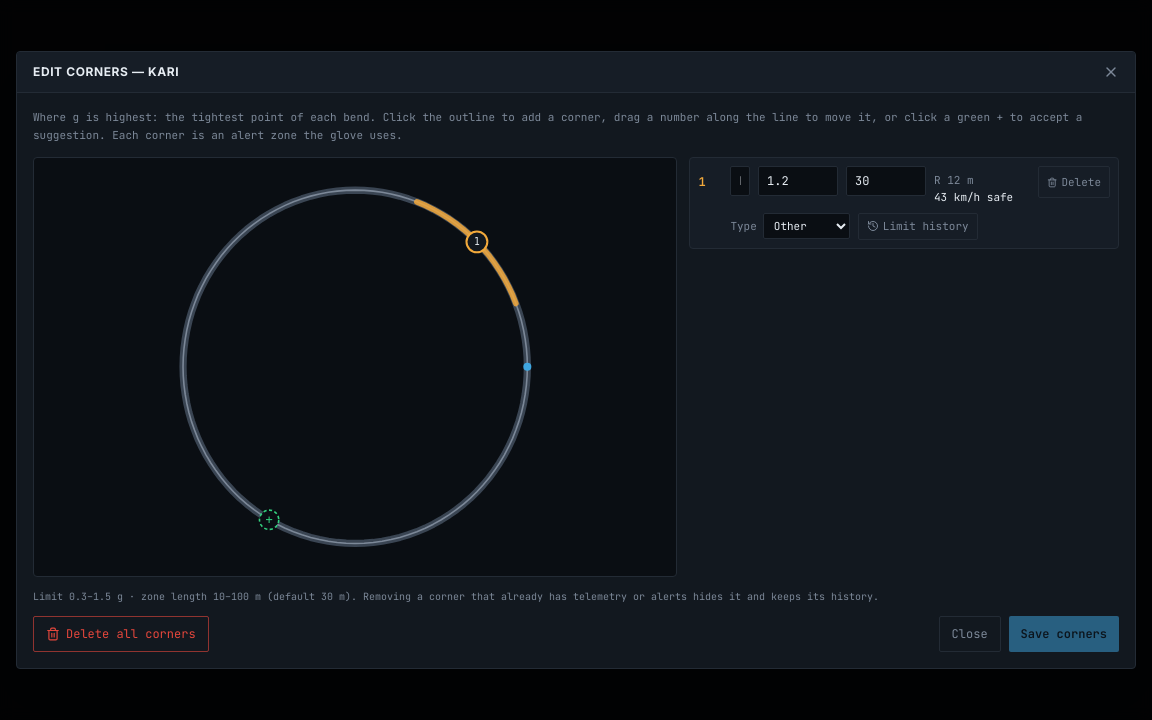
Test: CornerEditorDialog (editable map) › says so when a corner has no history, and shows an error when loading fails
Expected: the element with test id "corner-marker-table" is shown, [689,157,1119,249]
Step 1. Click the button with test id "marker-history-1" → (918, 226), box [858,213,978,240]
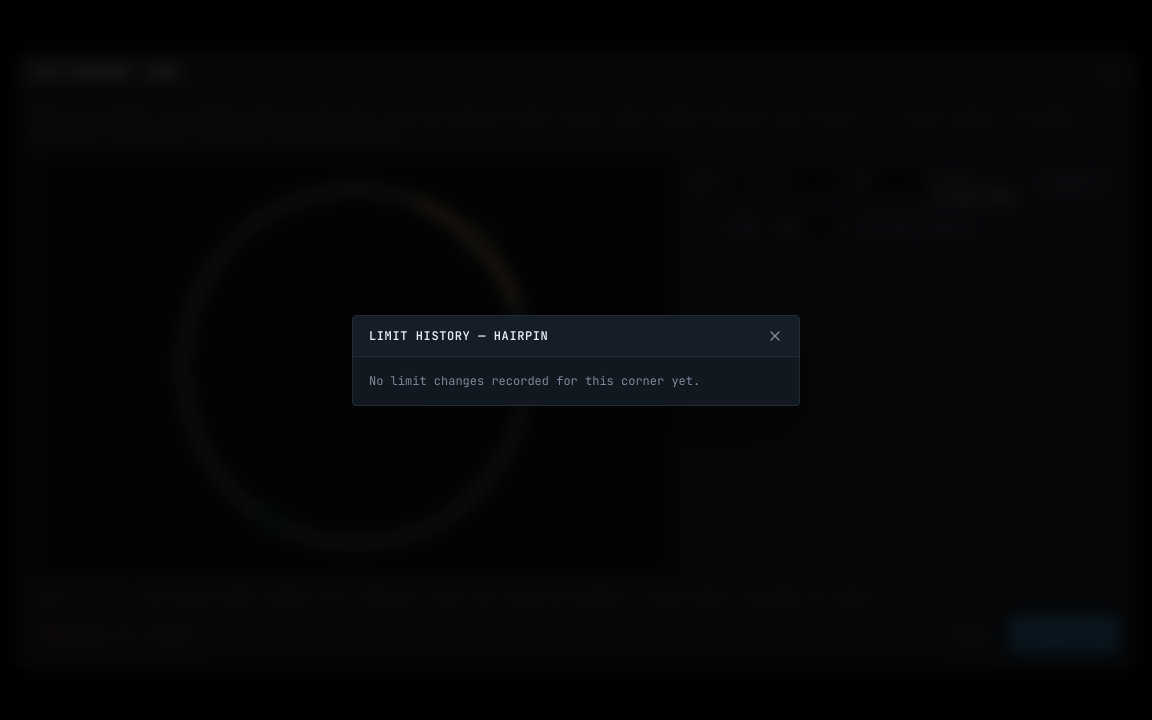
Expected: the text "No limit changes recorded for this corner yet." is shown, [369,372,700,388]
Step 2. Click the button named "Close history" → (775, 336), box [767,328,783,344]
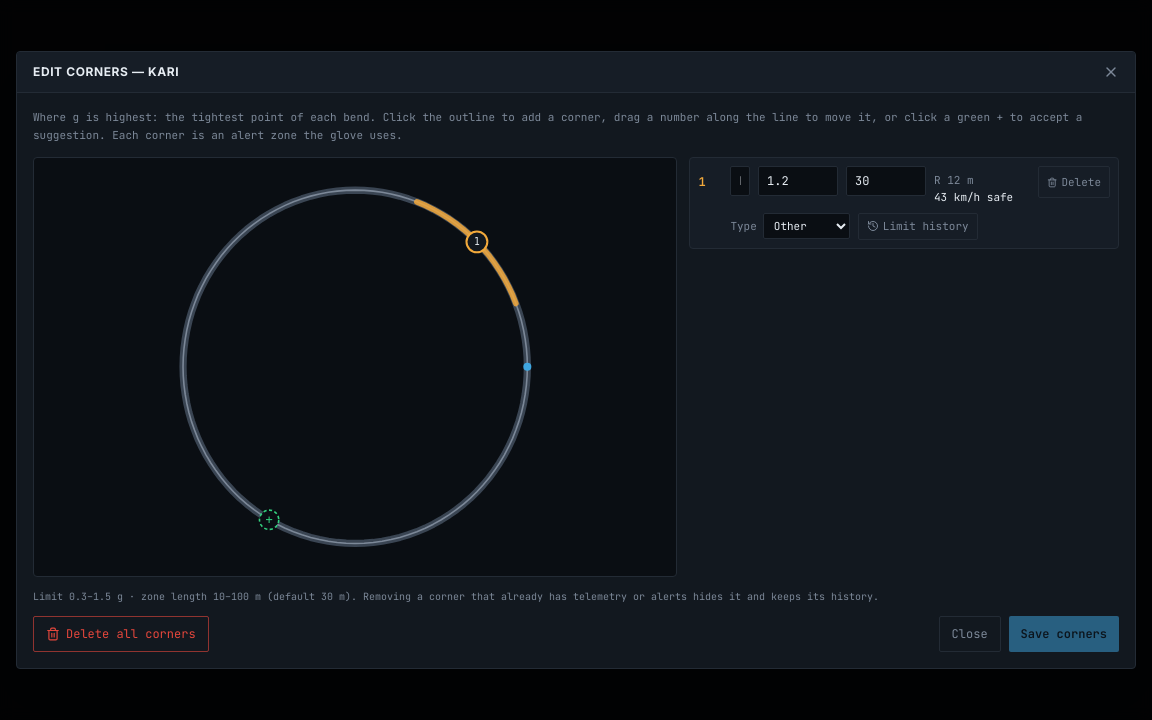
Step 3. Click the button with test id "marker-history-1" → (918, 226), box [858,213,978,240]
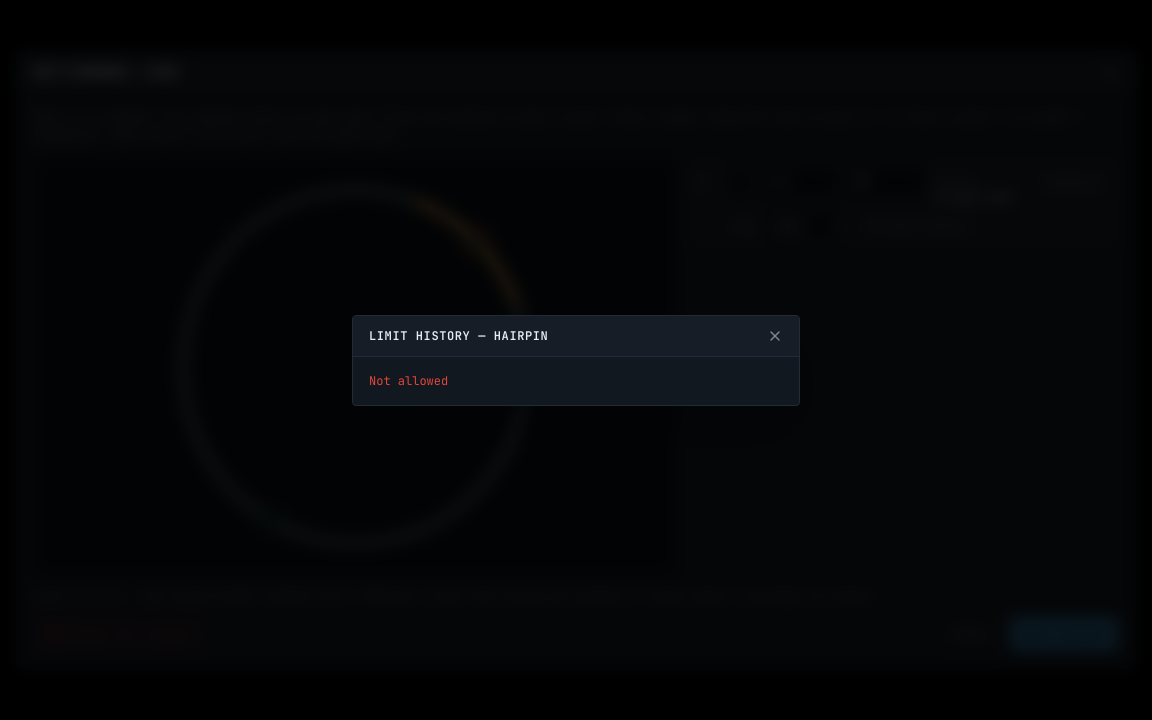
Expected: the message with test id "history-error" reads "Not allowed", [369,372,448,388]
